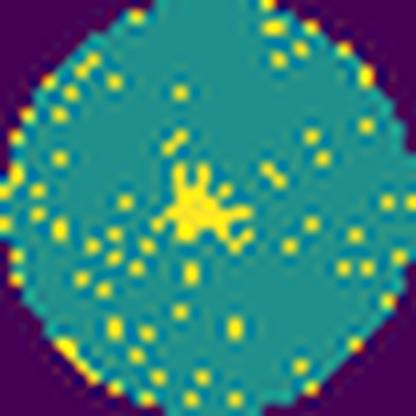Center: (164, 161, 252, 251)
